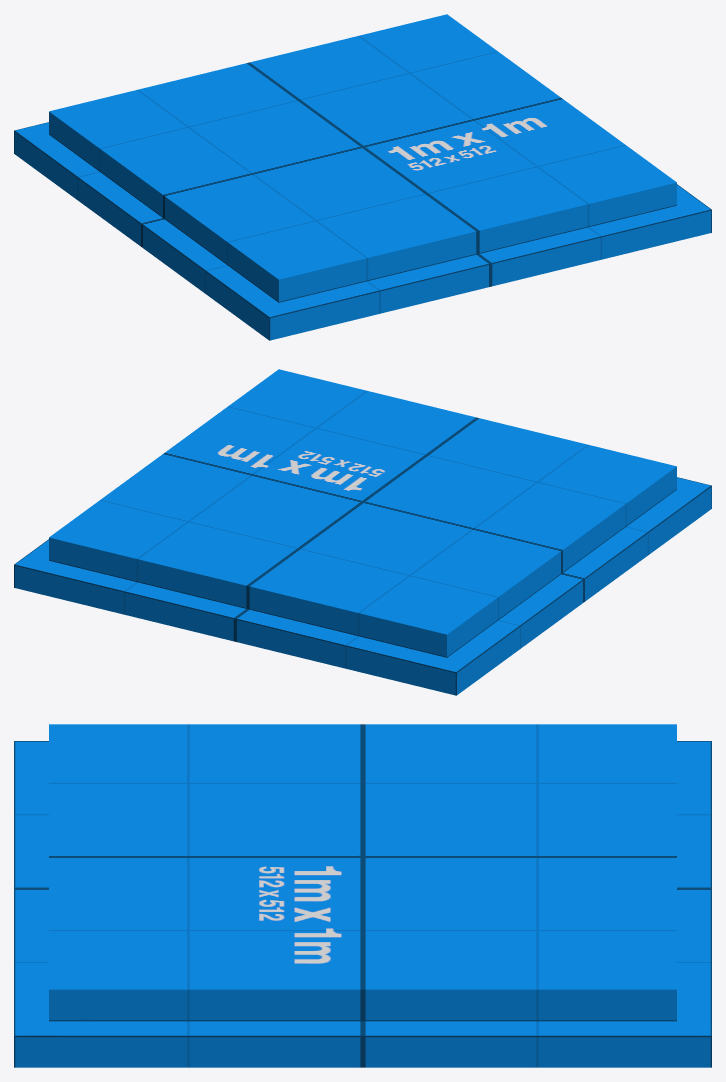
The model's file is Pressure_Plate.FBX.
3 views of the same model, one above another, from view 1: azimuth 30°, elevation 25°; view 2: azimuth 150°, elevation 25°; view 3: azimuth 270°, elevation 25° (orthographic). The views are drawn at different scales.
Parts seen in each view (by area): view 1: PressurePlate; view 2: PressurePlate; view 3: PressurePlate.
Part boxes in pixels (x1,y1,x2,y2): PressurePlate: (14,14,711,340); PressurePlate: (14,369,711,695); PressurePlate: (14,724,711,1067).
Size of the model in its own units: 1 by 0.1 by 1.
Materials: 1 (1 with a texture image).
